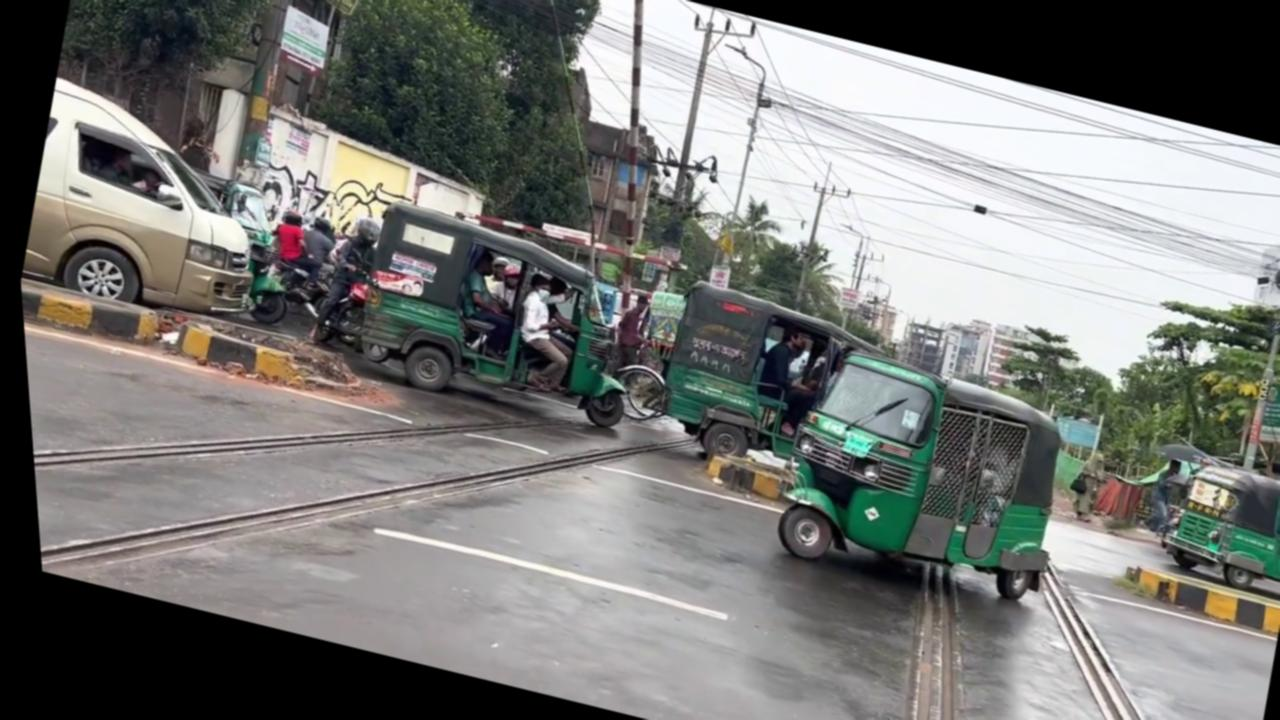Bench: (748, 336, 1082, 617)
Car: (970, 551, 1265, 720), (858, 558, 994, 720)
Fence: (595, 290, 656, 388), (1133, 455, 1180, 536)
Garbage: (583, 0, 683, 204), (1226, 330, 1280, 472)
Motorcycle: (19, 323, 623, 702)
Railroad-crossing: (284, 0, 649, 243), (984, 318, 1084, 418)
Rickshaw: (632, 274, 897, 494), (157, 168, 312, 329), (1140, 448, 1280, 599)
